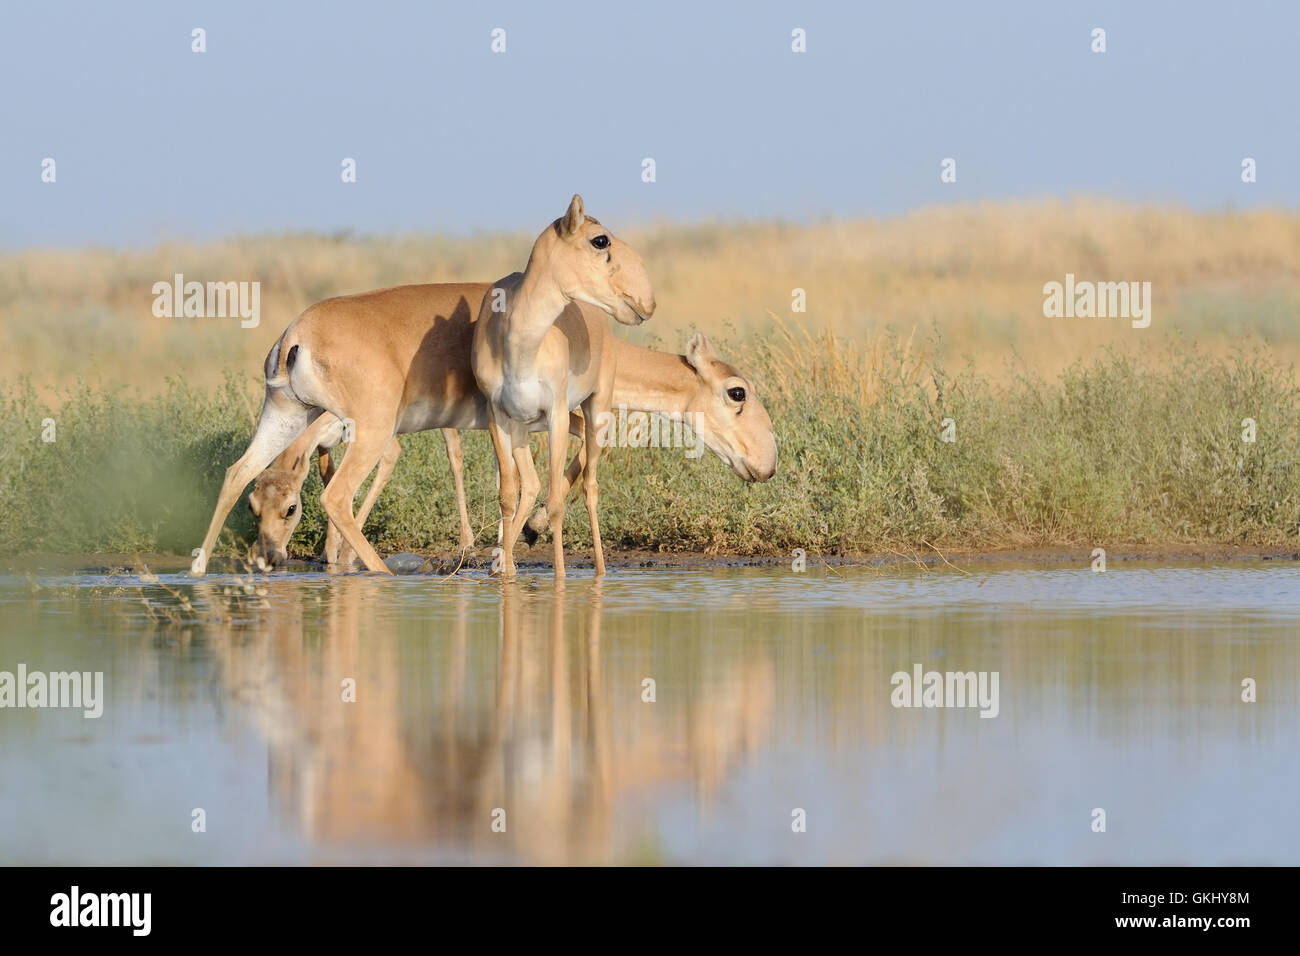saiga: (494, 192, 655, 562)
